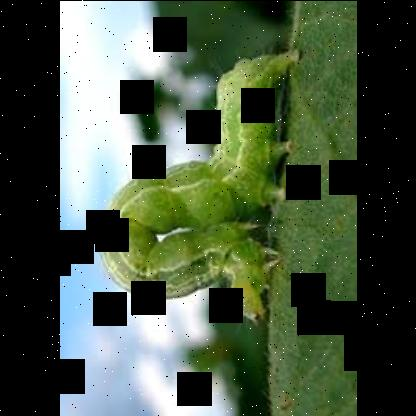oruga: (92, 48, 292, 326)
